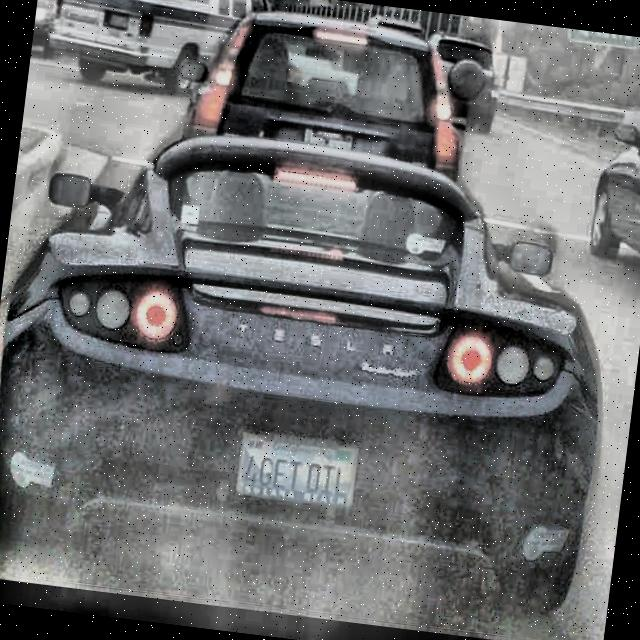license_plate: (234, 426, 360, 511)
